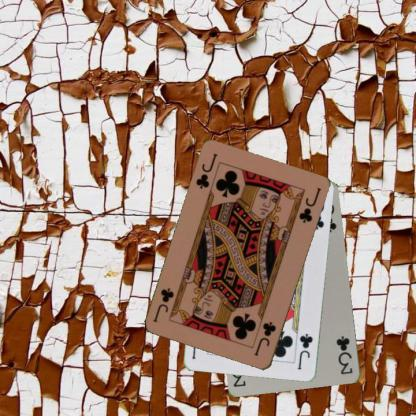3c: (334, 334, 354, 376)
Jc: (194, 150, 219, 190), (252, 320, 278, 358), (296, 331, 314, 372)
